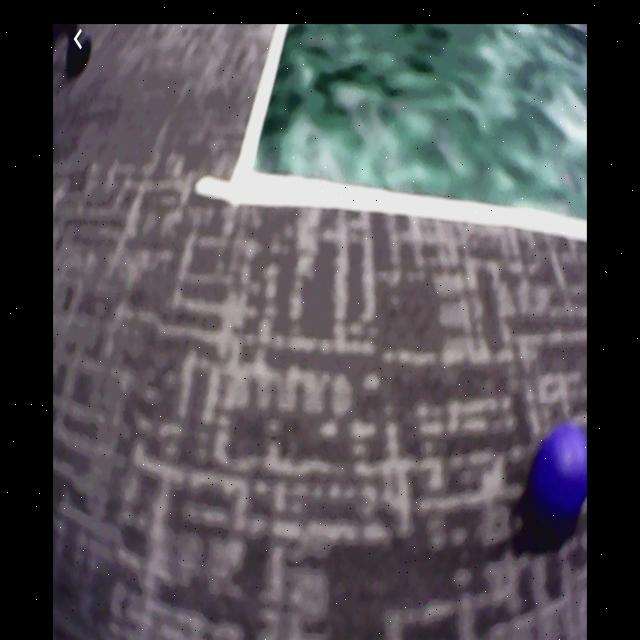ball: (531, 429, 587, 527)
